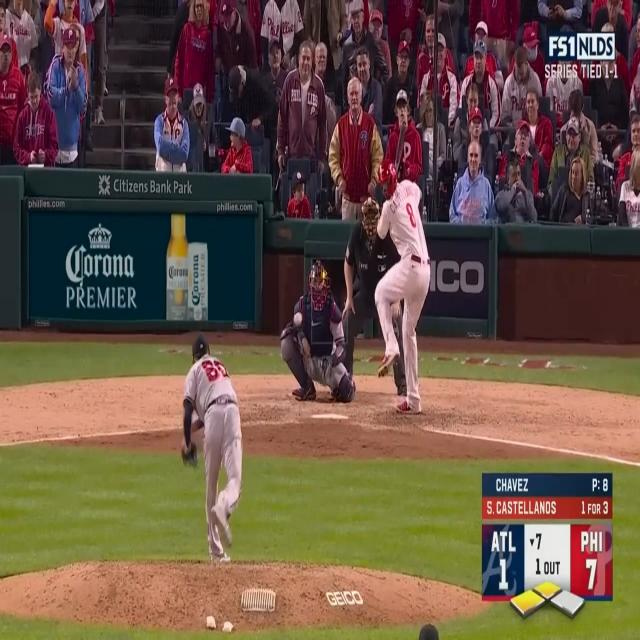baseball: (293, 308, 303, 328)
